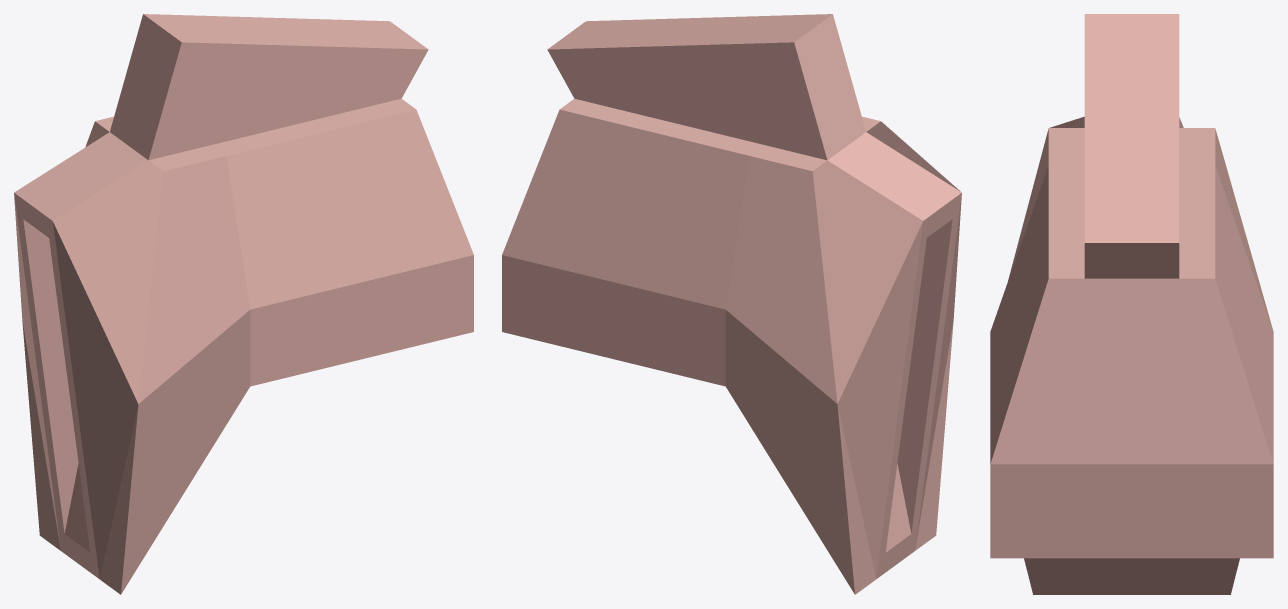
Rendered from cb_head_2.gltf.
3 renders of one model, left to right at view 1: azimuth 30°, elevation 25°; view 2: azimuth 150°, elevation 25°; view 3: azimuth 270°, elevation 25°, orthographic. The views are drawn at different scales.
Parts seen in each view (by area): view 1: Cube.009; view 2: Cube.009; view 3: Cube.009.
Boxes of the visible parts, <box> form: Cube.009: <box>14,14,473,594</box>; Cube.009: <box>502,14,961,594</box>; Cube.009: <box>990,14,1273,594</box>.
Bounding box in the file's own units: 2.28 × 2.95 × 1.2.
